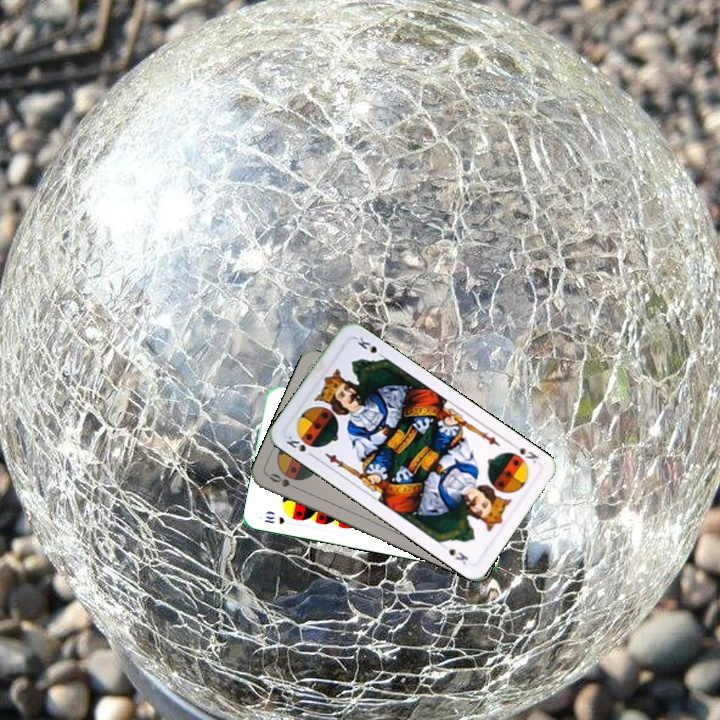S10: (260, 512, 287, 527)
SK: (282, 432, 318, 460), (506, 439, 541, 466)
SO: (265, 469, 303, 493)
